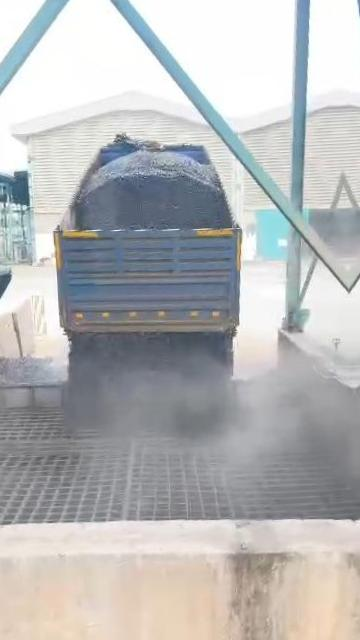gravel: (65, 333, 230, 429), (71, 148, 231, 230), (0, 357, 66, 389)
